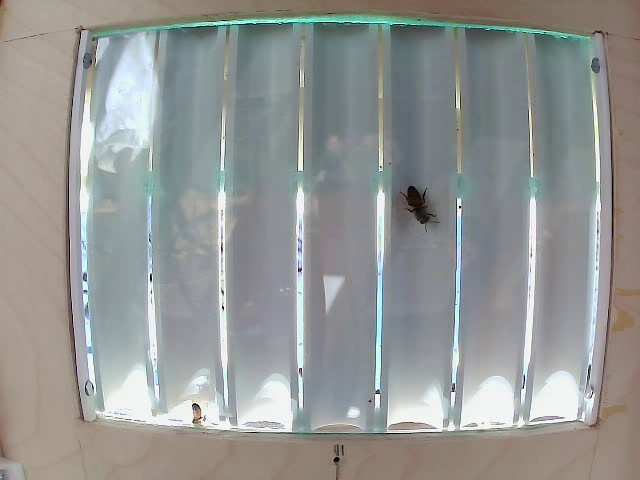bee: (407, 172, 444, 241)
